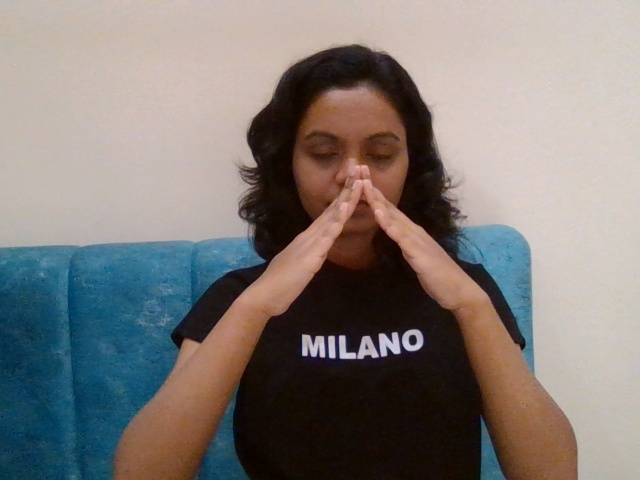House: (186, 162, 540, 389)
